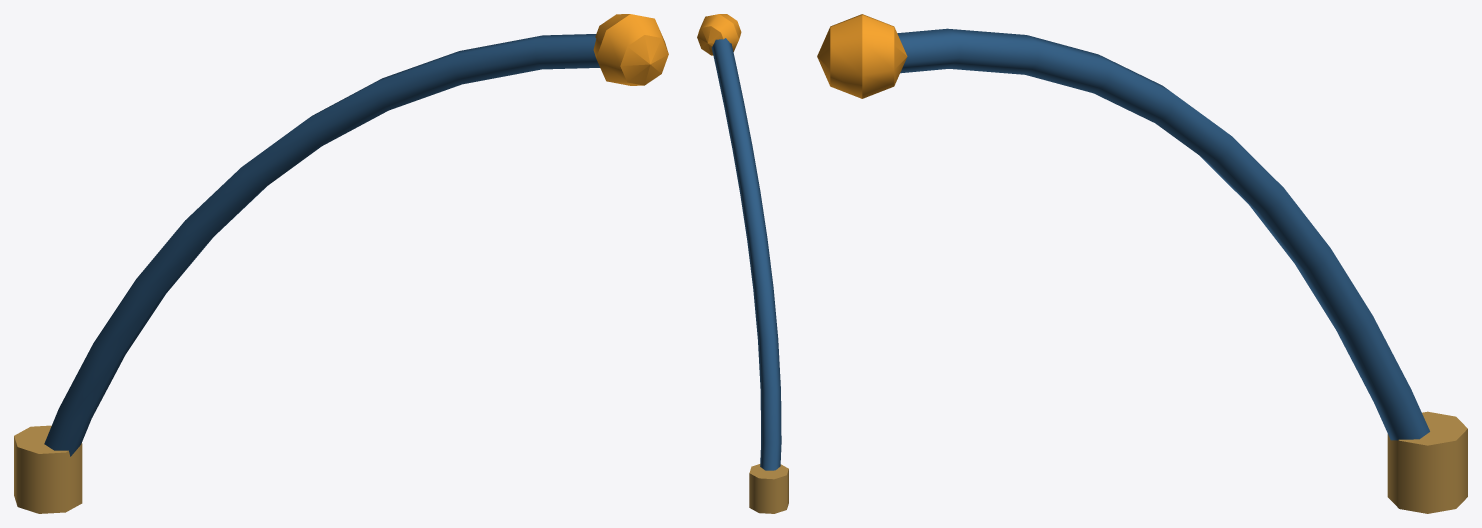
The model's file is rm2_antenna_l.obj.
3 renders of one model, left to right at view 1: azimuth 30°, elevation 25°; view 2: azimuth 150°, elevation 25°; view 3: azimuth 270°, elevation 25°, orthographic. The views are drawn at different scales.
Visible parts, largest first — view 1: rm2_antenna_l; view 2: rm2_antenna_l; view 3: rm2_antenna_l.
Part boxes in pixels (left/top/right/bottom): rm2_antenna_l: left=14, top=14, right=668, bottom=513; rm2_antenna_l: left=697, top=14, right=788, bottom=513; rm2_antenna_l: left=817, top=14, right=1467, bottom=513.
Bounding box in the file's own units: 0.209 × 0.293 × 0.259.
